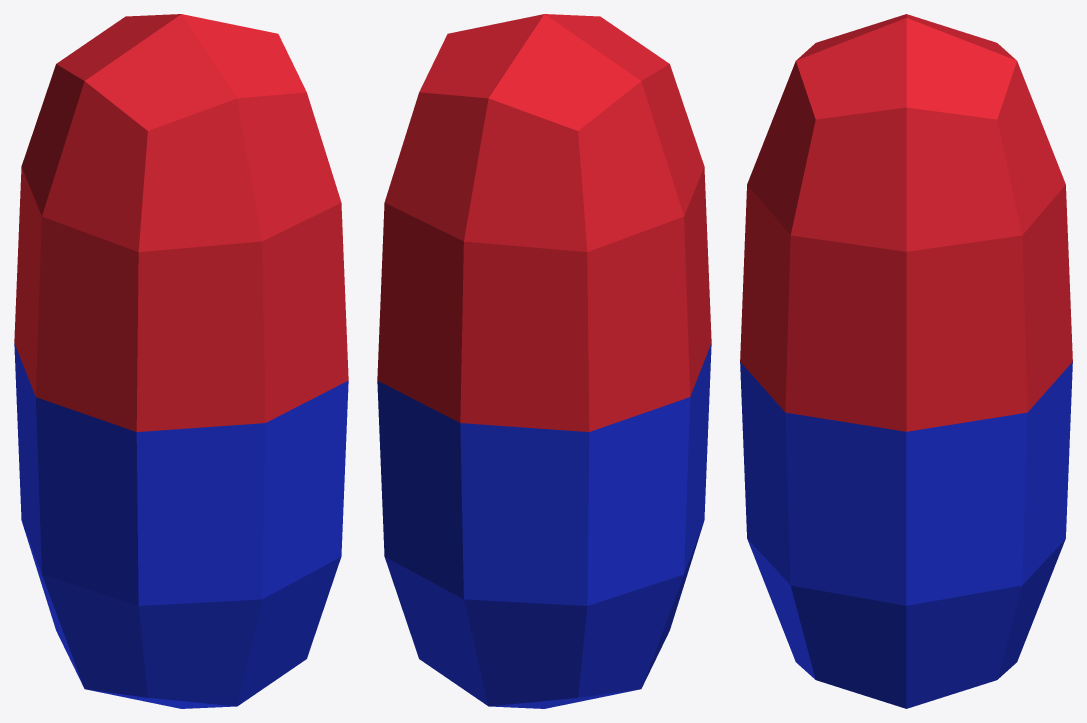
The model's file is pill.fbx.
The picture shows the model from 3 angles, left to right: view 1: azimuth 30°, elevation 25°; view 2: azimuth 150°, elevation 25°; view 3: azimuth 270°, elevation 25°; orthographic projection.
Visible parts, largest first — view 1: Cube; view 2: Cube; view 3: Cube.
Boxes of the visible parts, x1,y1,x2,y2 form: Cube: (14, 14, 348, 708); Cube: (377, 14, 711, 708); Cube: (740, 14, 1072, 708).
Bounding box in the file's own units: 183 × 418 × 183.
